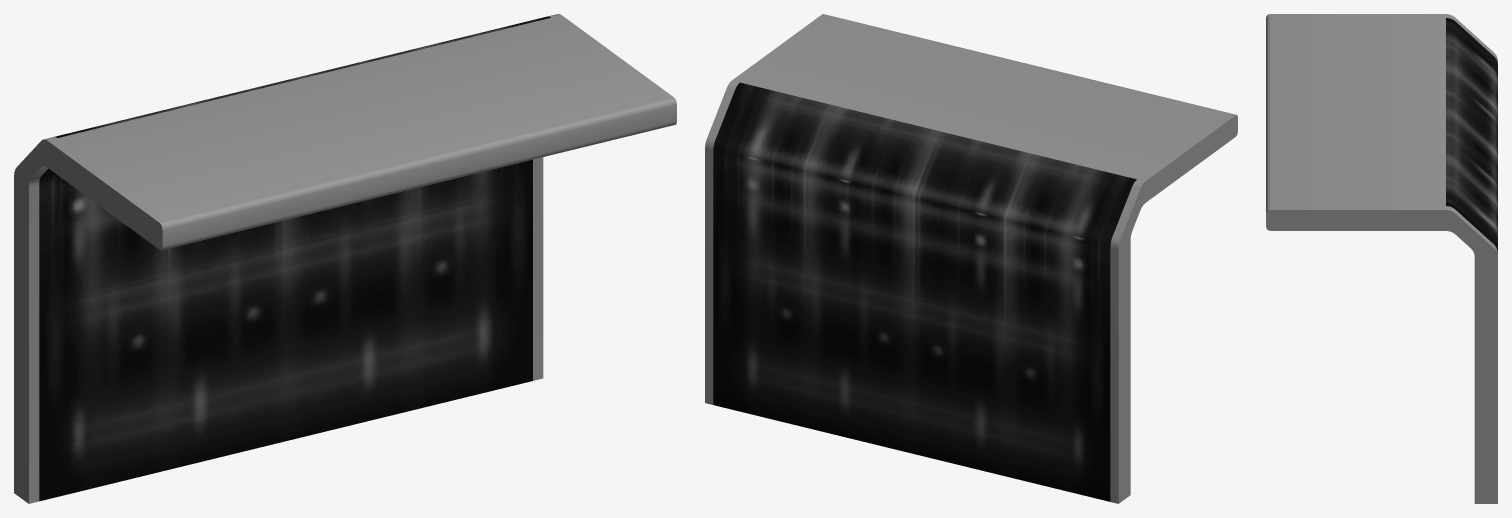
File: Club_Glass_Shelf_01.FBX
The picture shows the model from 3 angles, left to right: view 1: azimuth 30°, elevation 25°; view 2: azimuth 150°, elevation 25°; view 3: azimuth 270°, elevation 25°; orthographic projection. The views are drawn at different scales.
Visible parts, largest first — view 1: Club_Glass_Shelf_01; view 2: Club_Glass_Shelf_01; view 3: Club_Glass_Shelf_01.
Part boxes in pixels (x1,y1,x2,y2): Club_Glass_Shelf_01: (14,14,676,503); Club_Glass_Shelf_01: (705,14,1237,503); Club_Glass_Shelf_01: (1266,14,1497,503).
Size of the model in its own units: 1 by 0.7 by 0.5.
